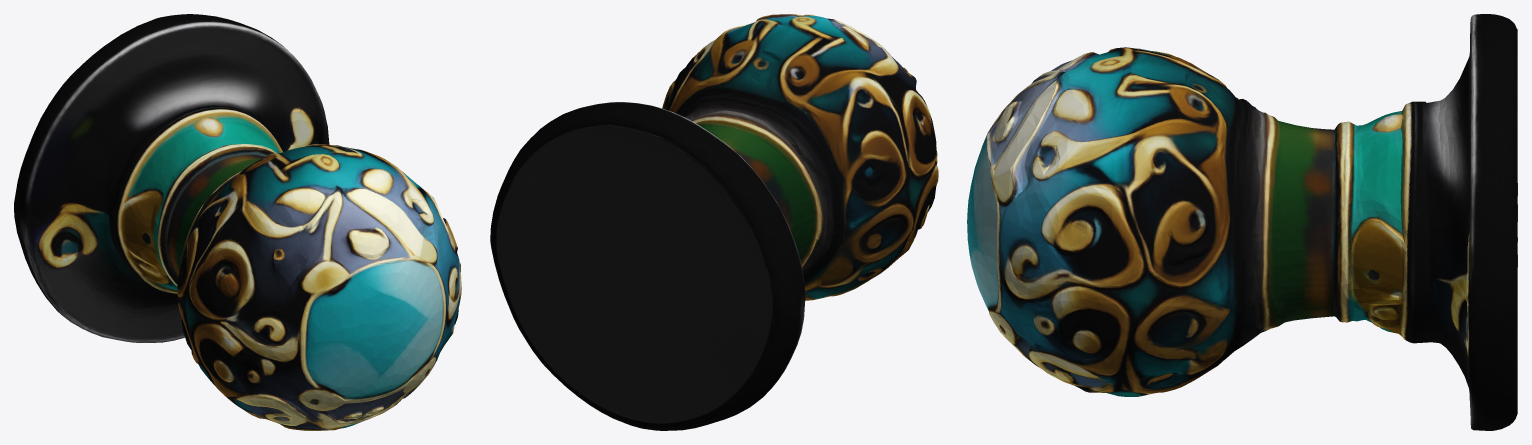
Rendered from ceramic-doorknob-3d.jpeg.glb.
3 renders of one model, left to right at view 1: azimuth 30°, elevation 25°; view 2: azimuth 150°, elevation 25°; view 3: azimuth 270°, elevation 25°, orthographic. The views are drawn at different scales.
Parts seen in each view (by area): view 1: world; view 2: world; view 3: world.
Boxes of the visible parts, x1,y1,x2,y2 form: world: [14, 14, 461, 430]; world: [490, 14, 938, 430]; world: [967, 14, 1517, 430].
Bounding box in the file's own units: 0.7741 × 0.7679 × 1.
1 material, 1 textured.
